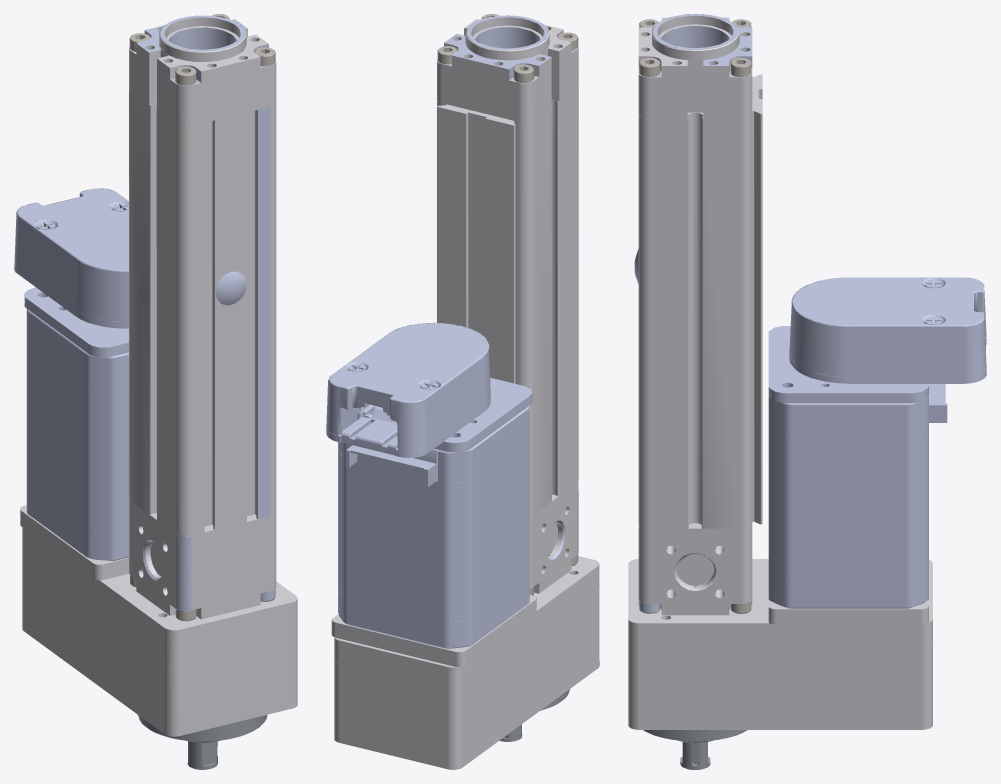
Rendered from cylinder body.glb.
3 views of the same model, side by side, from view 1: azimuth 30°, elevation 25°; view 2: azimuth 150°, elevation 25°; view 3: azimuth 270°, elevation 25° (orthographic). The views are drawn at different scales.
Parts seen in each view (by area): view 1: cylinder body.IGS; view 2: cylinder body.IGS; view 3: cylinder body.IGS.
Part boxes in pixels (x1,y1,x2,y2): cylinder body.IGS: (14, 14, 297, 769); cylinder body.IGS: (326, 14, 599, 769); cylinder body.IGS: (628, 14, 986, 769).
Bounding box in the file's own units: 0.0421 × 0.212 × 0.0941.
1 material, 1 textured.
